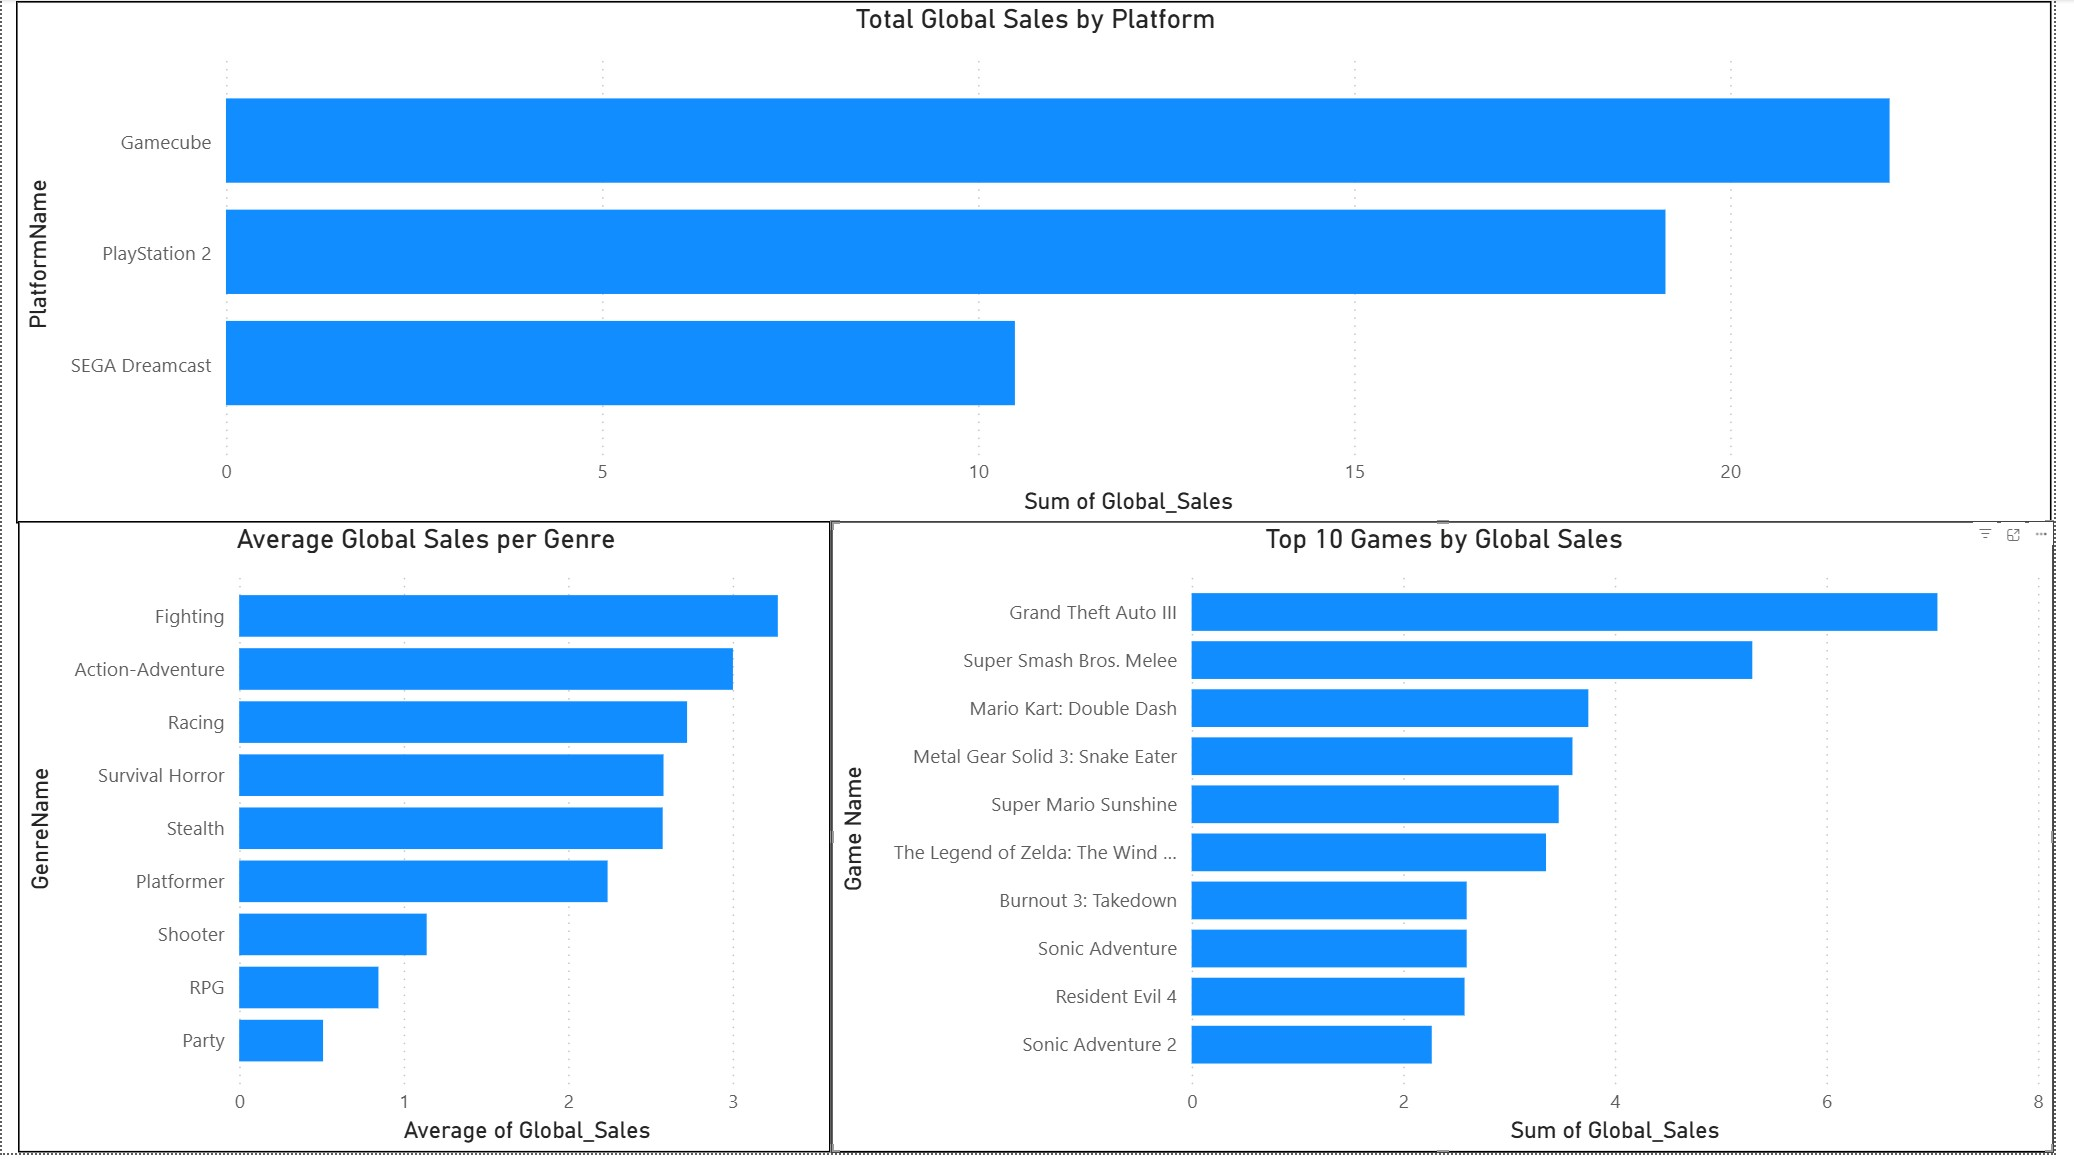

Layout of this report page (visuals, bound fields, positions):
{"tool":"powerbi","page":{"name":"Page 1","canvas":[1280,720],"ordinal":0},"visuals":[{"type":"clusteredBarChart","title":"Total Global Sales by Platform","fields":{"Category":["Platforms.PlatformName"],"Y":["Sum(Sales.Global_Sales)"]},"box":[9,1,1270.2,325.9],"z":0},{"type":"clusteredBarChart","title":"Average Global Sales per Genre","fields":{"Category":["Genres.GenreName"],"Y":["Avg(Sales.Global_Sales)"]},"box":[9.8,325.9,507.2,393.9],"z":1000},{"type":"clusteredBarChart","title":"Top 10 Games by Global Sales","fields":{"Category":["Games.GameName"],"Y":["Sum(Sales.Global_Sales)"]},"box":[517,325.9,763,393.9],"z":2000}]}

Visuals, with their boxes in screenshot pixels (x1, y1, x2, y2), scaled from the page's 1280x720 canvas onto the 2074x1159 screenshot:
"Total Global Sales by Platform" clusteredBarChart: <bbox>15, 2, 2073, 526</bbox>
"Average Global Sales per Genre" clusteredBarChart: <bbox>16, 525, 838, 1158</bbox>
"Top 10 Games by Global Sales" clusteredBarChart: <bbox>838, 525, 2073, 1158</bbox>
